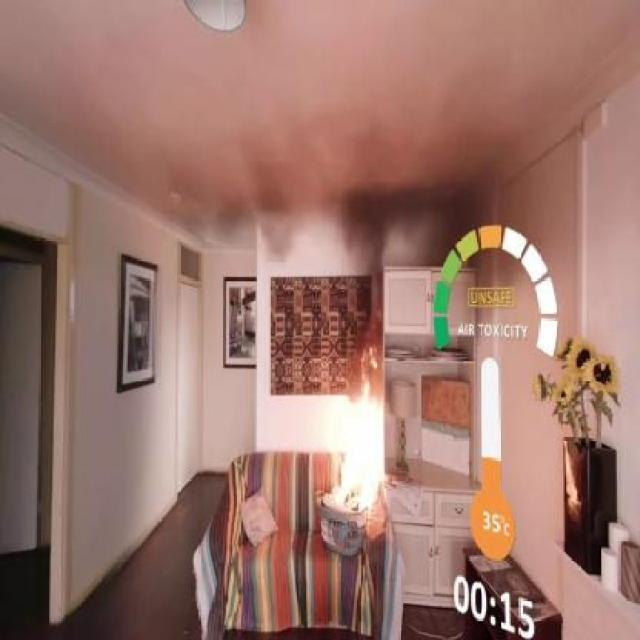fire: (313, 356, 418, 553)
smoke: (347, 155, 516, 288)
